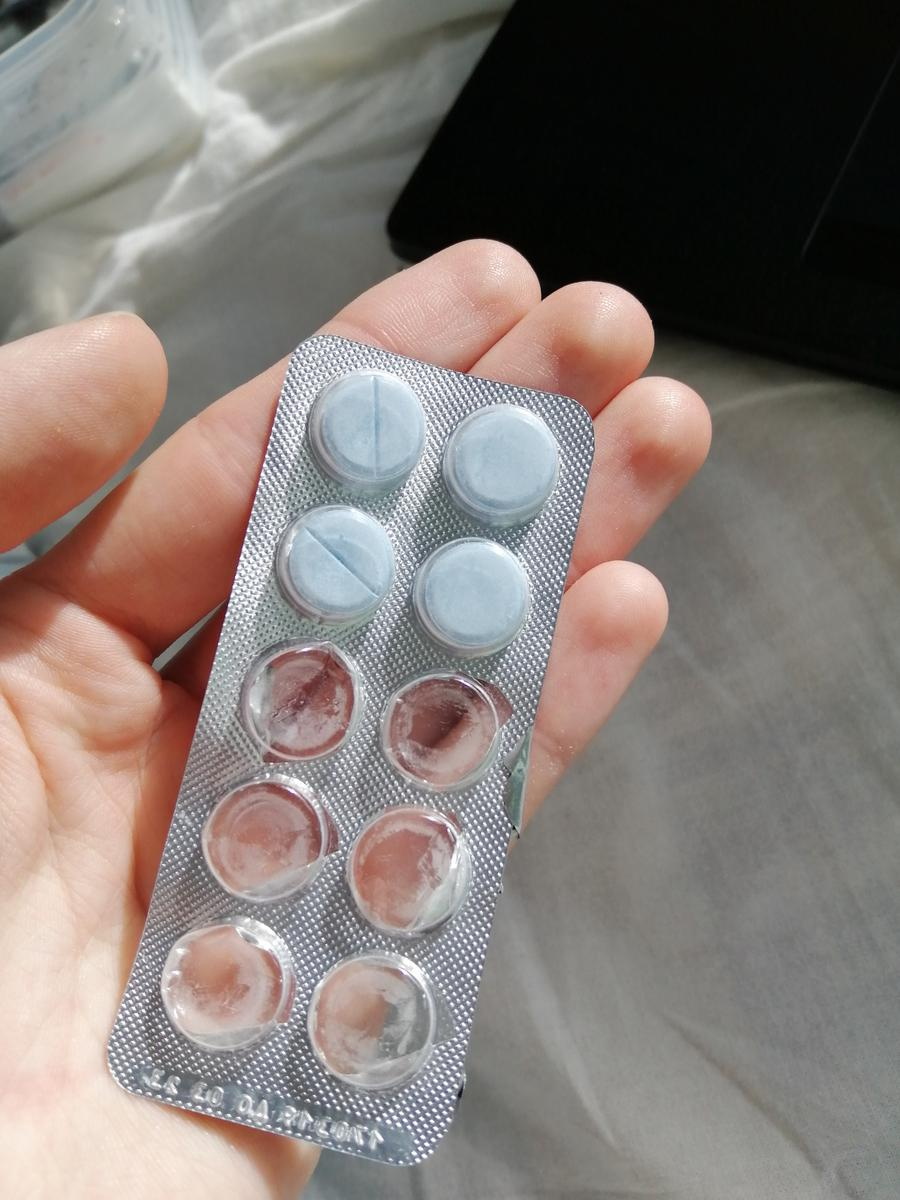tablet: (273, 501, 401, 626), (412, 533, 533, 661), (442, 402, 558, 521), (313, 369, 427, 490)
